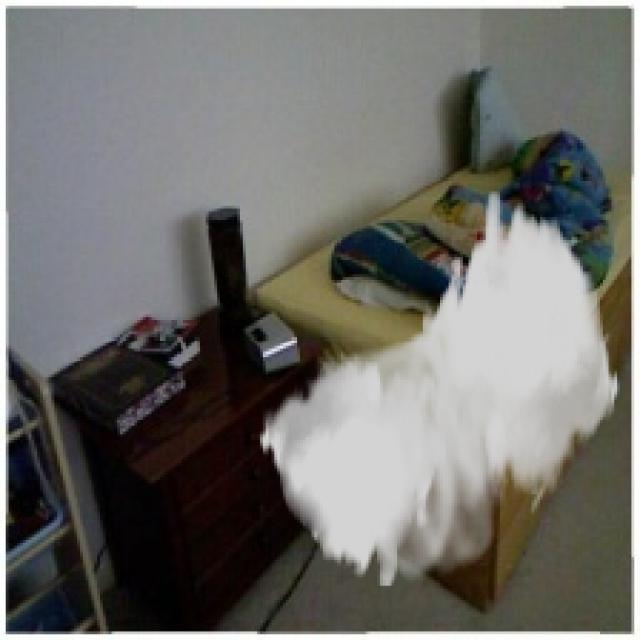Smoke: (257, 192, 620, 588)
